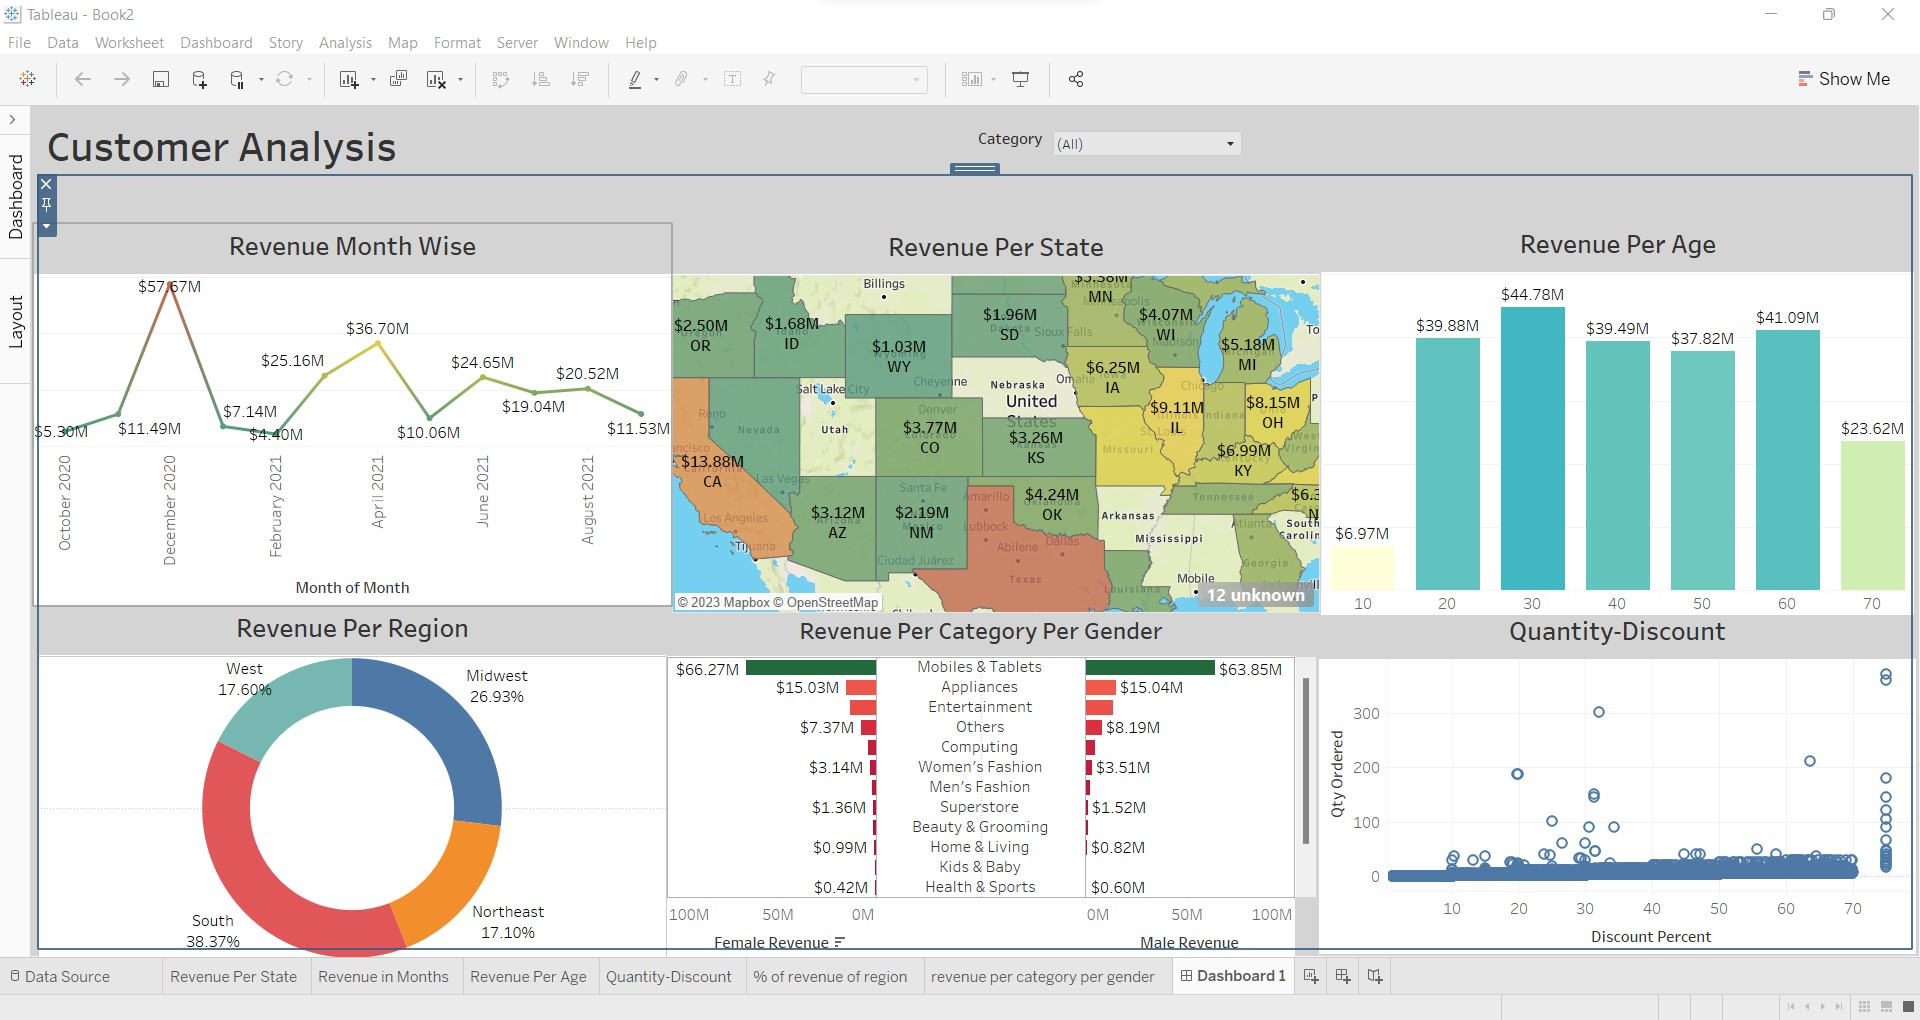

What the dashboard file says about the page in this screenshot:
{"tool":"tableau","page":{"name":"Dashboard 1","canvas":[1000,1000],"units":"permille","ordinal":0},"visuals":[{"type":"worksheet","box":[0,0,1000,1000]},{"type":"worksheet","param":"vert","box":[4.8,9.4,990.3,981.2]},{"type":"worksheet","box":[4.8,9.4,990.3,74]},{"type":"worksheet","title":"revenue per category per gender","mark":"Automatic","rows":["category"],"cols":["Calculation_175077501543010305","Calculation_175077501532180480","Calculation_175077501543419906"],"param":"[federated.1pnxc4e1szy3kj15mgtp00rgenr4].[none:category:nk]","box":[501.5,27,141.2,45.8]},{"type":"worksheet","box":[4.8,83.4,990.3,907.2]},{"type":"worksheet","title":"Revenue Per Age","mark":"Automatic","rows":["total"],"cols":["Age (bin)"],"box":[683.2,137.5,314.4,461.8]},{"type":"worksheet","title":"Revenue in Months","mark":"Automatic","rows":["total"],"cols":["month"],"box":[1.8,139.8,337.4,447.7]},{"type":"worksheet","title":"Revenue Per State","mark":"Automatic","box":[339.8,141,343.4,455.9]},{"type":"worksheet","title":"Quantity-Discount","mark":"Automatic","rows":["qty_ordered"],"cols":["Discount_Percent"],"box":[682,592.2,316.2,405.4]}]}

Visuals, with their boxes on the dashboard's canvas, which has no fixed pixel size, in thousandths of its width and height (x1, y1, x2, y2). These are canvas units, not pixel positions in the 1920x1020 screenshot, which may show the page scaled, cropped or inside an application window:
worksheet: l=0, t=0, r=1000, b=1000
worksheet: l=5, t=9, r=995, b=991
worksheet: l=5, t=9, r=995, b=83
"revenue per category per gender" worksheet: l=502, t=27, r=643, b=73
worksheet: l=5, t=83, r=995, b=991
"Revenue Per Age" worksheet: l=683, t=138, r=998, b=599
"Revenue in Months" worksheet: l=2, t=140, r=339, b=588
"Revenue Per State" worksheet: l=340, t=141, r=683, b=597
"Quantity-Discount" worksheet: l=682, t=592, r=998, b=998
